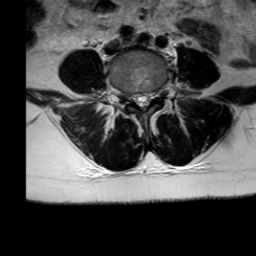CCS_normal: (138, 81, 145, 119)
LFS_normal: (152, 77, 161, 106)
LLS_normal: (145, 81, 152, 111)
RFS_normal: (123, 81, 131, 112)
RLS_normal: (131, 81, 138, 112)
